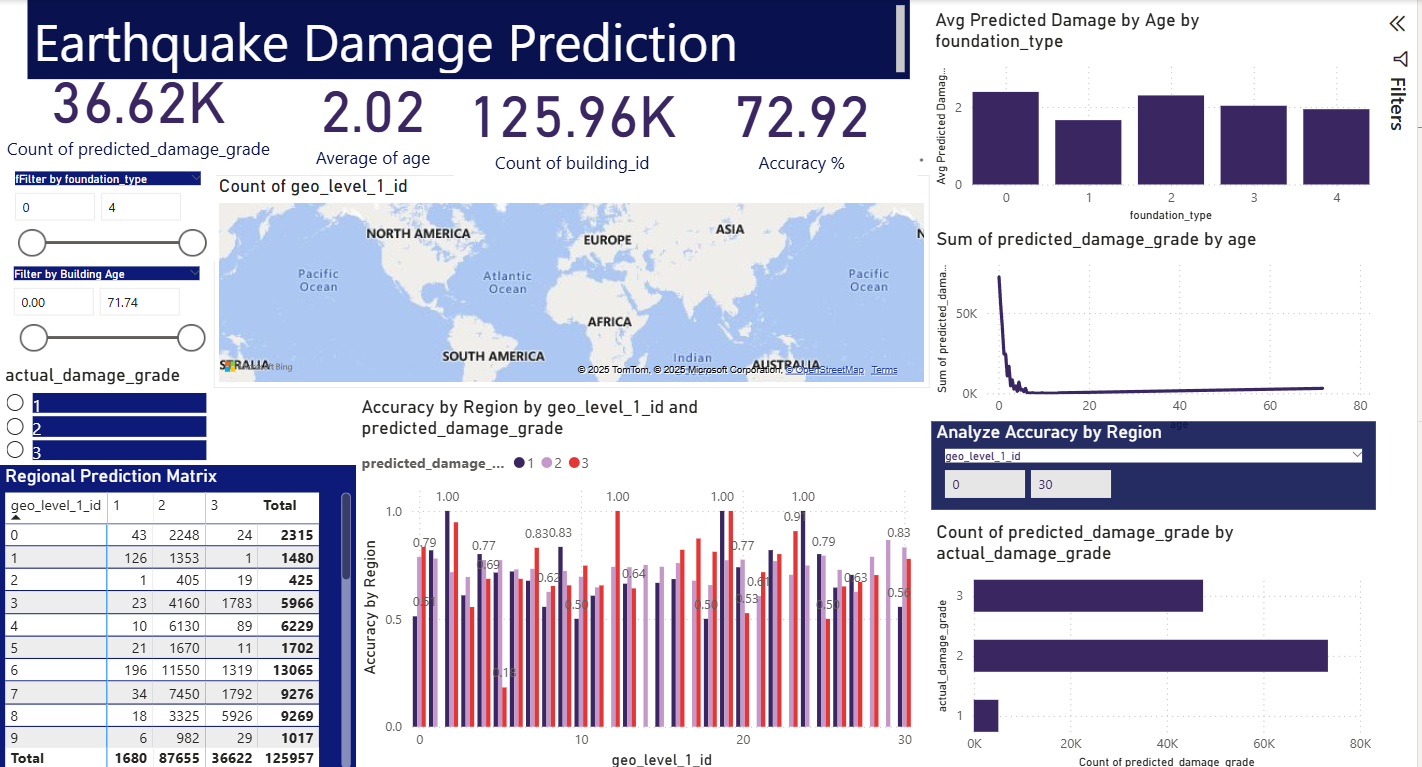

What the dashboard file says about the page in this screenshot:
{"tool":"powerbi","page":{"name":"j","canvas":[1280,720],"ordinal":0},"visuals":[{"type":"slicer","fields":{"Values":["final_predictions_for_dashboard.age"]},"box":[0,243,198.8,95.3],"z":0},{"type":"listSlicer","fields":{"Values":["final_predictions_for_dashboard.actual_damage_grade"]},"box":[0,338.4,198.8,208.1],"z":1000},{"type":"filledMap","box":[198.8,162.8,666.3,197.7],"z":2000},{"type":"slicer","fields":{"Values":["final_predictions_for_dashboard.foundation_type"]},"box":[1.2,154.7,198.8,88.4],"z":3000},{"type":"card","fields":{"Values":["Count(final_predictions_for_dashboard.building_id)"]},"box":[422.1,57,220.9,110.5],"z":4000},{"type":"card","fields":{"Values":["Avg(final_predictions_for_dashboard.age)"]},"box":[258.1,52.3,177.9,110.5],"z":5000},{"type":"card","fields":{"Values":["CountNonNull(final_predictions_for_dashboard.predicted_damage_grade)"]},"box":[0,44.2,258.1,110.5],"z":6000},{"type":"barChart","fields":{"Y":["CountNonNull(final_predictions_for_dashboard.predicted_damage_grade)"],"Category":["final_predictions_for_dashboard.actual_damage_grade"]},"box":[866.3,484.9,414,234.9],"z":7000},{"type":"lineChart","fields":{"Category":["final_predictions_for_dashboard.age"],"Y":["Sum(final_predictions_for_dashboard.predicted_damage_grade)"]},"box":[866.3,211.6,414,194.2],"z":8000},{"type":"pivotTable","title":"Regional Prediction Matrix","fields":{"Columns":["final_predictions_for_dashboard.predicted_damage_grade"],"Rows":["final_predictions_for_dashboard.geo_level_1_id"],"Values":["CountNonNull(final_predictions_for_dashboard.predicted_damage_grade)"]},"box":[0,432.6,331.4,287.2],"z":9000},{"type":"card","fields":{"Values":["final_predictions_for_dashboard.Accuracy %"]},"box":[638.4,57,215.1,110.5],"z":10000},{"type":"clusteredColumnChart","fields":{"Category":["final_predictions_for_dashboard.foundation_type"],"Y":["final_predictions_for_dashboard.Avg Predicted Damage by Age"]},"box":[865.1,8.1,414,203.5],"z":11000},{"type":"slicer","title":"Analyze Accuracy by Region","fields":{"Values":["final_predictions_for_dashboard.geo_level_1_id"]},"box":[866.3,391.9,414,82.6],"z":12000},{"type":"clusteredColumnChart","fields":{"Y":["final_predictions_for_dashboard.Accuracy by Region"],"Category":["final_predictions_for_dashboard.geo_level_1_id"],"Series":["final_predictions_for_dashboard.predicted_damage_grade"]},"box":[331.4,368.6,522.1,351.2],"z":13000},{"type":"textbox","box":[25.6,0,820.9,73.3],"z":13001}]}

Visuals, with their boxes on the page's 1280x720 design canvas (x1, y1, x2, y2). These are canvas units, not pixel positions in the 1422x767 screenshot, which may show the page scaled, cropped or inside an application window:
slicer - final_predictions_for_dashboard.age: (0, 243, 199, 338)
listSlicer - final_predictions_for_dashboard.actual_damage_grade: (0, 338, 199, 546)
filledMap: (199, 163, 865, 360)
slicer - final_predictions_for_dashboard.foundation_type: (1, 155, 200, 243)
card - Count(final_predictions_for_dashboard.building_id): (422, 57, 643, 168)
card - Avg(final_predictions_for_dashboard.age): (258, 52, 436, 163)
card - CountNonNull(final_predictions_for_dashboard.predicted_damage_grade): (0, 44, 258, 155)
barChart - CountNonNull(final_predictions_for_dashboard.predicted_damage_grade) x final_predictions_for_dashboard.actual_damage_grade: (866, 485, 1280, 720)
lineChart - final_predictions_for_dashboard.age x Sum(final_predictions_for_dashboard.predicted_damage_grade): (866, 212, 1280, 406)
"Regional Prediction Matrix" pivotTable: (0, 433, 331, 720)
card - final_predictions_for_dashboard.Accuracy %: (638, 57, 854, 168)
clusteredColumnChart - final_predictions_for_dashboard.foundation_type x final_predictions_for_dashboard.Avg Predicted Damage by Age: (865, 8, 1279, 212)
"Analyze Accuracy by Region" slicer: (866, 392, 1280, 474)
clusteredColumnChart - final_predictions_for_dashboard.Accuracy by Region x final_predictions_for_dashboard.geo_level_1_id: (331, 369, 854, 720)
textbox: (26, 0, 846, 73)
